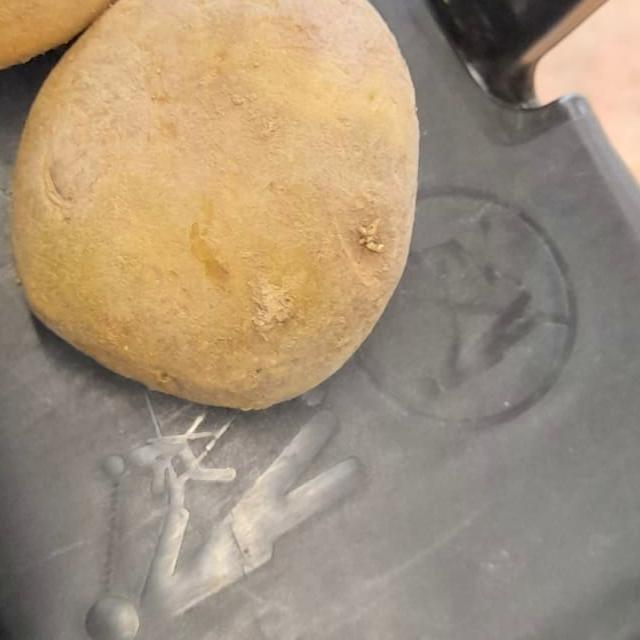potato: (0, 0, 466, 413)
